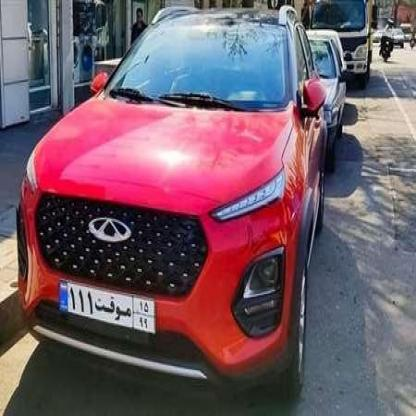Car: (18, 10, 320, 391), (298, 26, 350, 161), (384, 24, 409, 48)
Truck: (310, 0, 372, 79)
